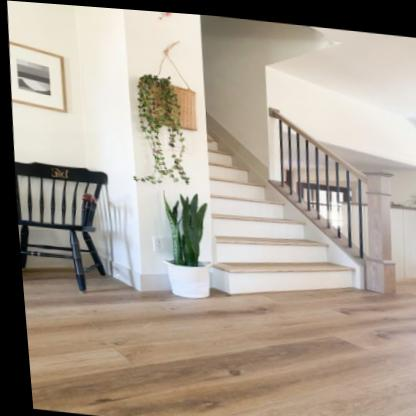Wooden floor: (17, 260, 416, 416)
